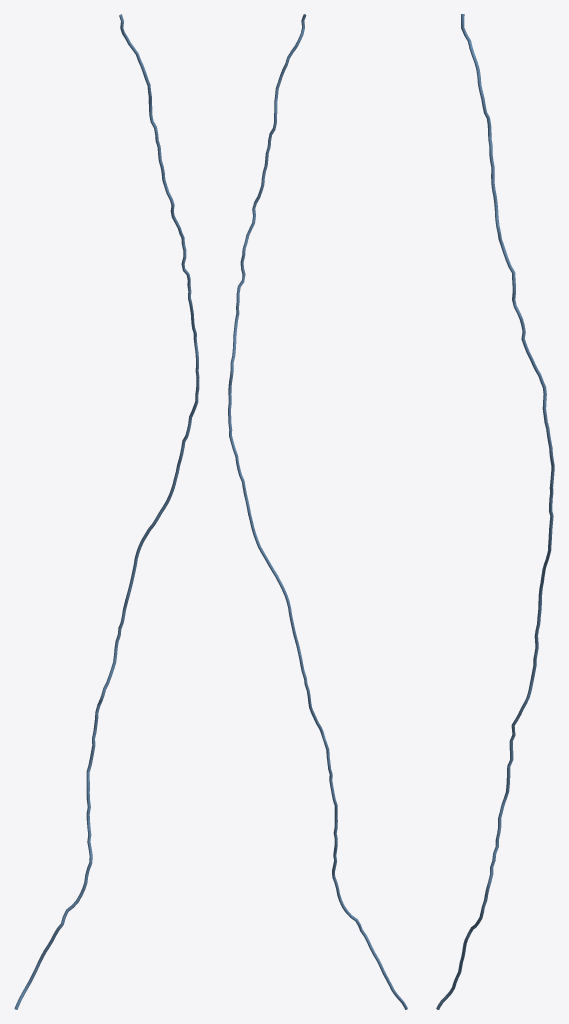
The model's file is sweep72.fbx.
3 views of the same model, side by side, from view 1: azimuth 30°, elevation 25°; view 2: azimuth 210°, elevation 25°; view 3: azimuth 330°, elevation 25° (orthographic). The views are drawn at different scales.
Parts seen in each view (by area): view 1: sweep72; view 2: sweep72; view 3: sweep72.
Part boxes in pixels (x1=…): sweep72: x1=14, y1=14, x2=199, y2=1009; sweep72: x1=228, y1=14, x2=407, y2=1009; sweep72: x1=436, y1=14, x2=554, y2=1009.
Bounding box in the file's own units: 1.03 × 6.7 × 0.6168.
